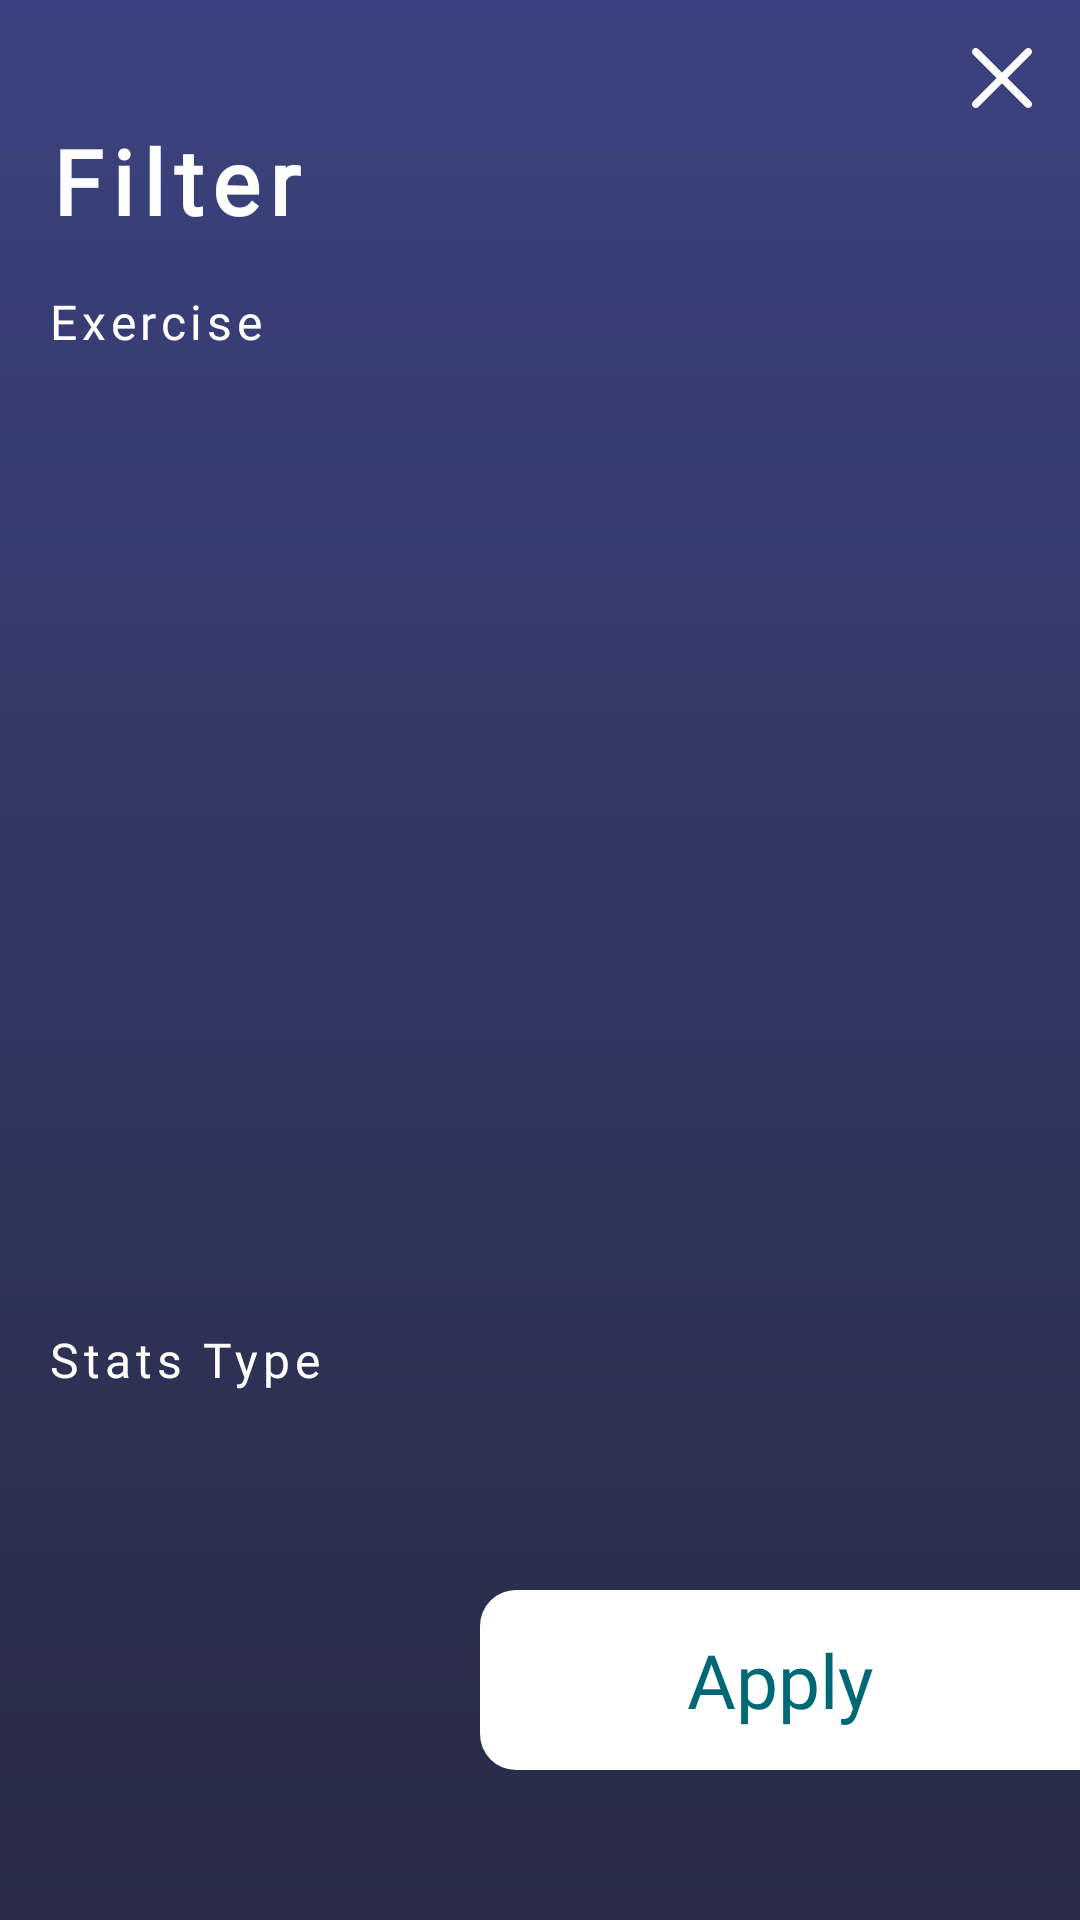

Icons on this 1080*1920 Android screen, each with the point to tap as (x=x, y=y):
cross: (x=1002, y=78)
